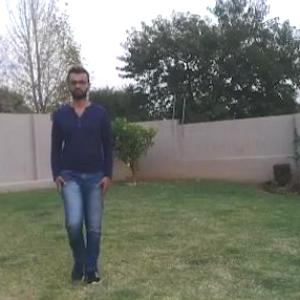follow: (55, 85, 111, 261)
